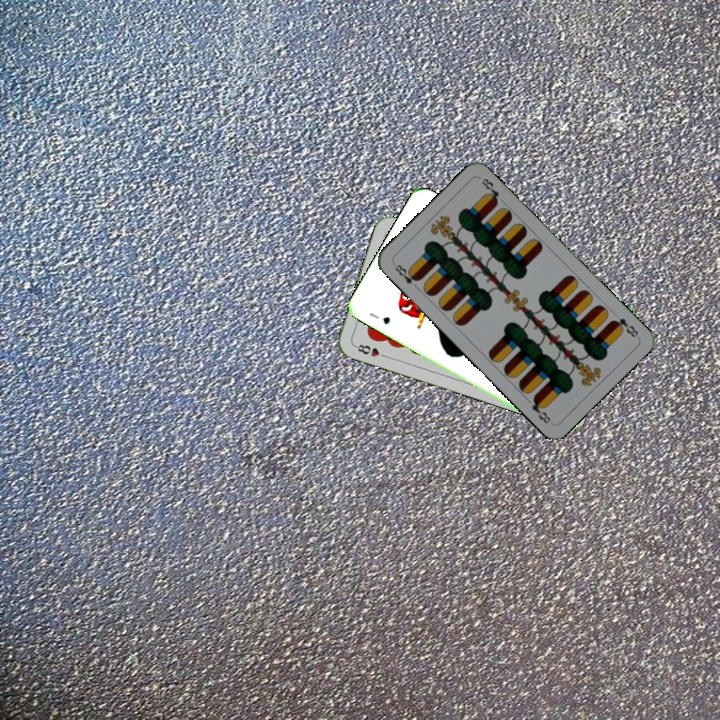E8: (391, 260, 422, 292), (607, 314, 641, 340)
GU: (365, 309, 393, 327)
H8: (351, 340, 390, 360)
